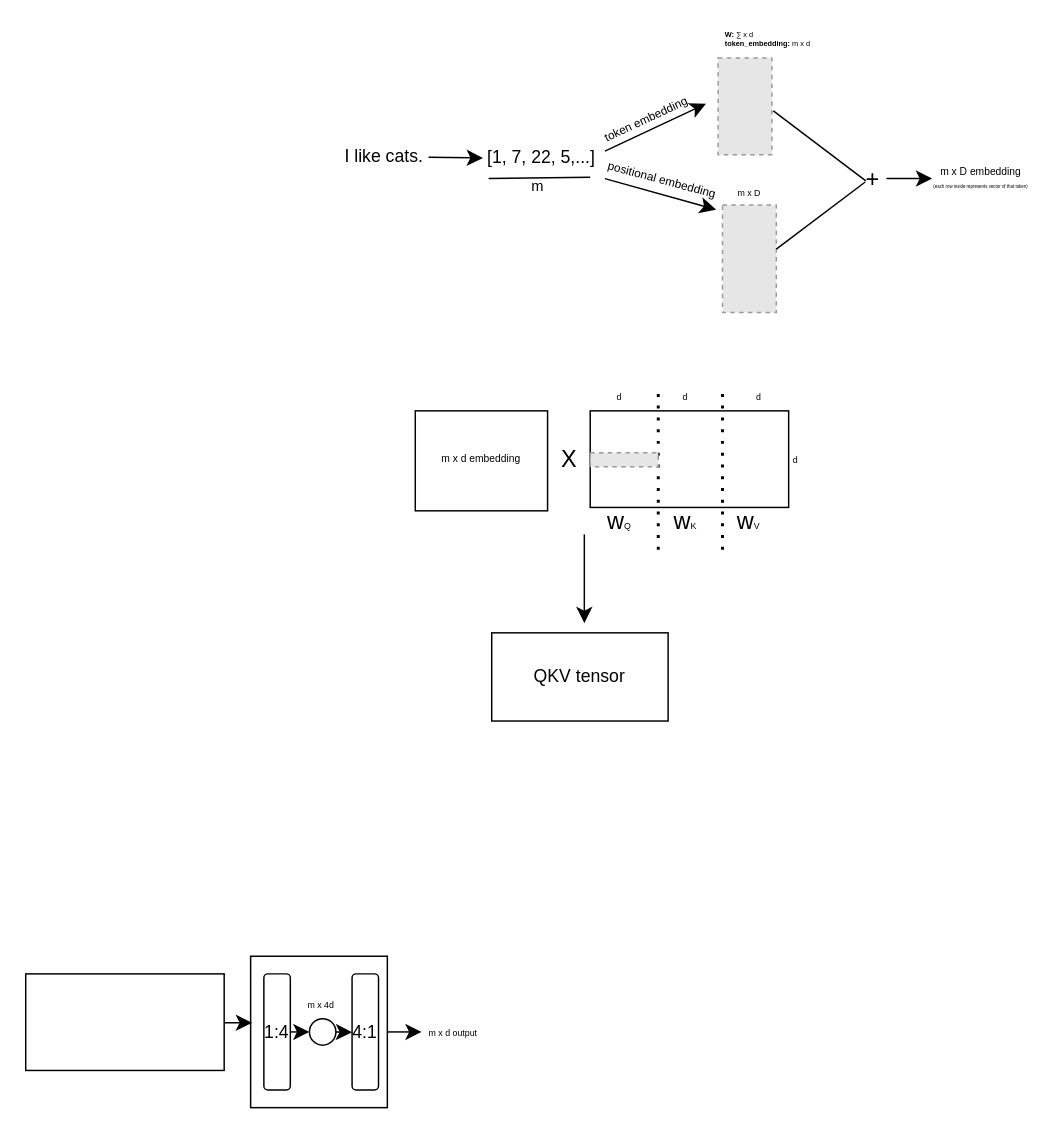
This 1061x1133 diagram has some shape labels left out. Grey dashed boxes stand in for pictures. The shapes that lost their labels are listed below. From the top down, each one's box as (x1, y1, x2, y2) in pixels, then its label:
(24, 972, 224, 1070): m x d multi-head attention output
(308, 1017, 336, 1045): GeLU
